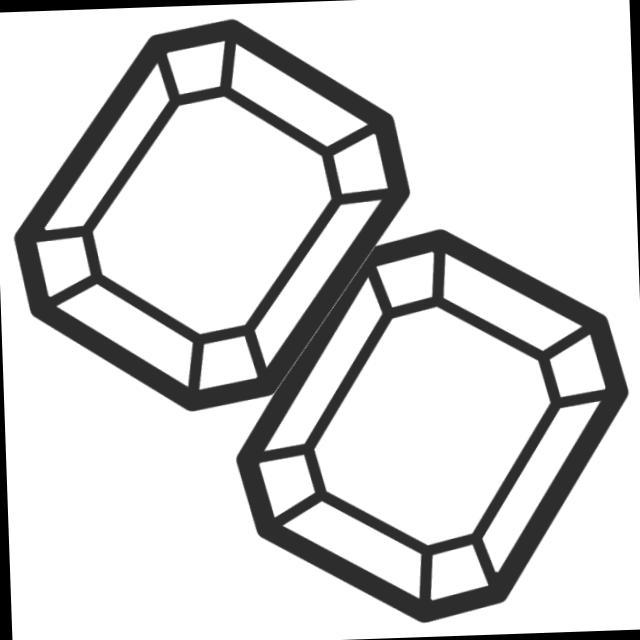emerald: (215, 212, 640, 638), (3, 7, 428, 425)
